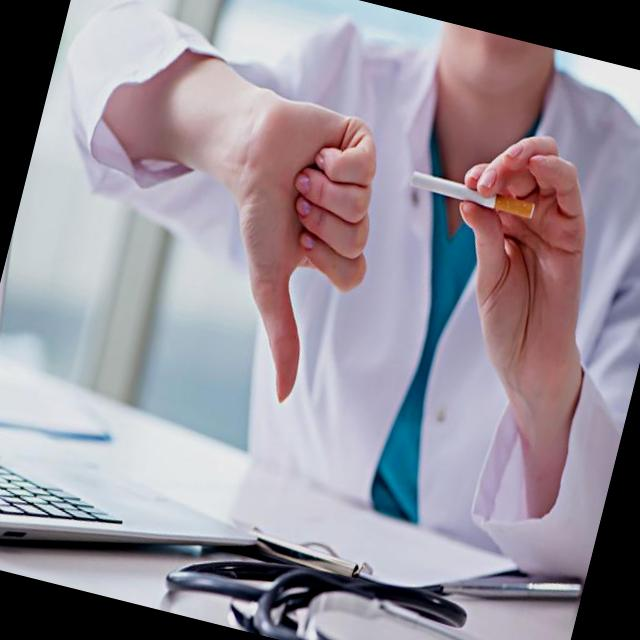cigarette: (398, 157, 542, 232)
